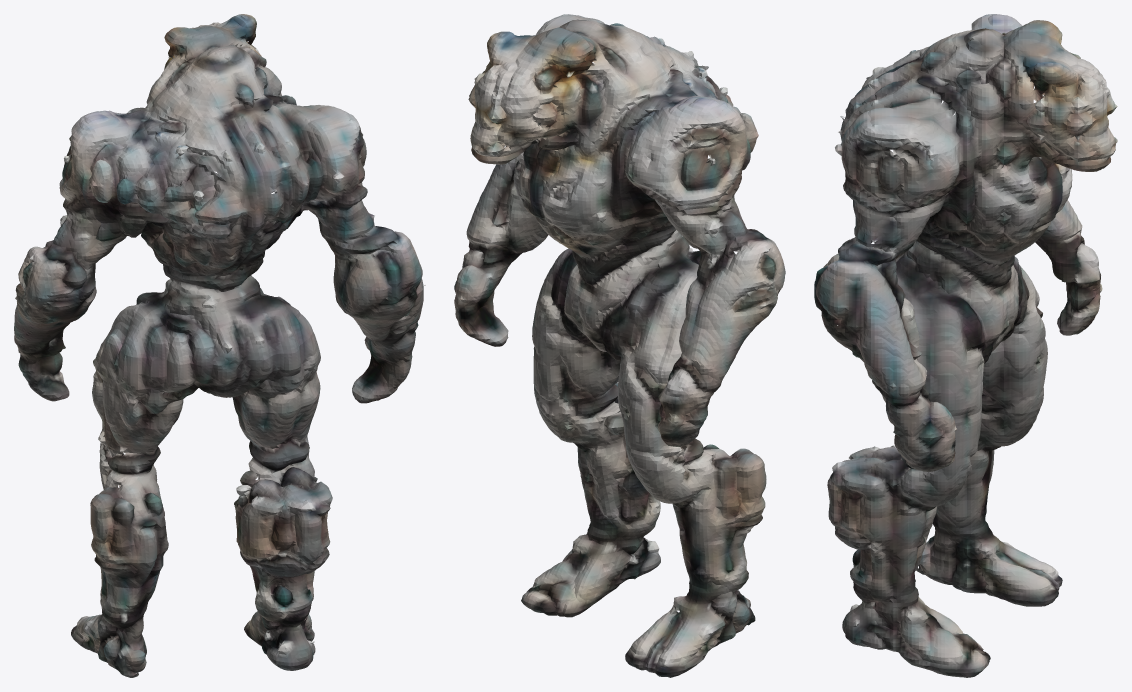
The model's file is leopard.glb.
3 views of the same model, side by side, from view 1: azimuth 30°, elevation 25°; view 2: azimuth 150°, elevation 25°; view 3: azimuth 270°, elevation 25° (orthographic). The views are drawn at different scales.
Parts seen in each view (by area): view 1: world; view 2: world; view 3: world.
Boxes of the visible parts, box(x1,y1,x2,y2) form: world: box(14, 14, 425, 677); world: box(454, 14, 785, 677); world: box(814, 14, 1117, 677).
Bounding box in the file's own units: 0.6145 × 1 × 0.448.
